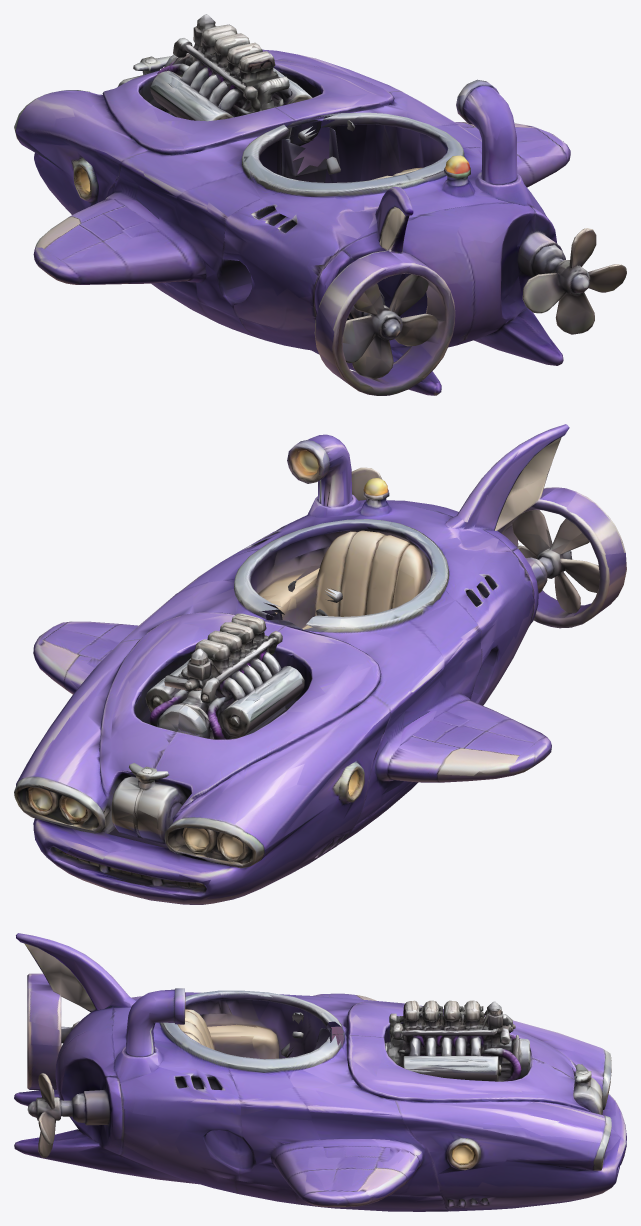
3 views of the same model, one above another, from view 1: azimuth 30°, elevation 25°; view 2: azimuth 150°, elevation 25°; view 3: azimuth 270°, elevation 25° (orthographic). The views are drawn at different scales.
Parts seen in each view (by area): view 1: LOD0; view 2: LOD0; view 3: LOD0.
Boxes of the visible parts, x1,y1,x2,y2 form: LOD0: (14, 14, 626, 395); LOD0: (14, 424, 626, 904); LOD0: (14, 933, 626, 1211).
Size of what is drawn, in the model's own units: 3.2 by 1.63 by 4.
